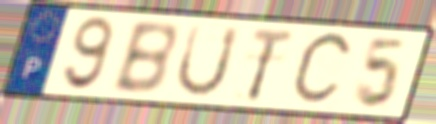5: (350, 35, 412, 110)
9: (61, 14, 118, 93)
B: (108, 20, 179, 97)
C: (287, 28, 356, 110)
T: (243, 26, 297, 104)
U: (172, 22, 243, 100)
